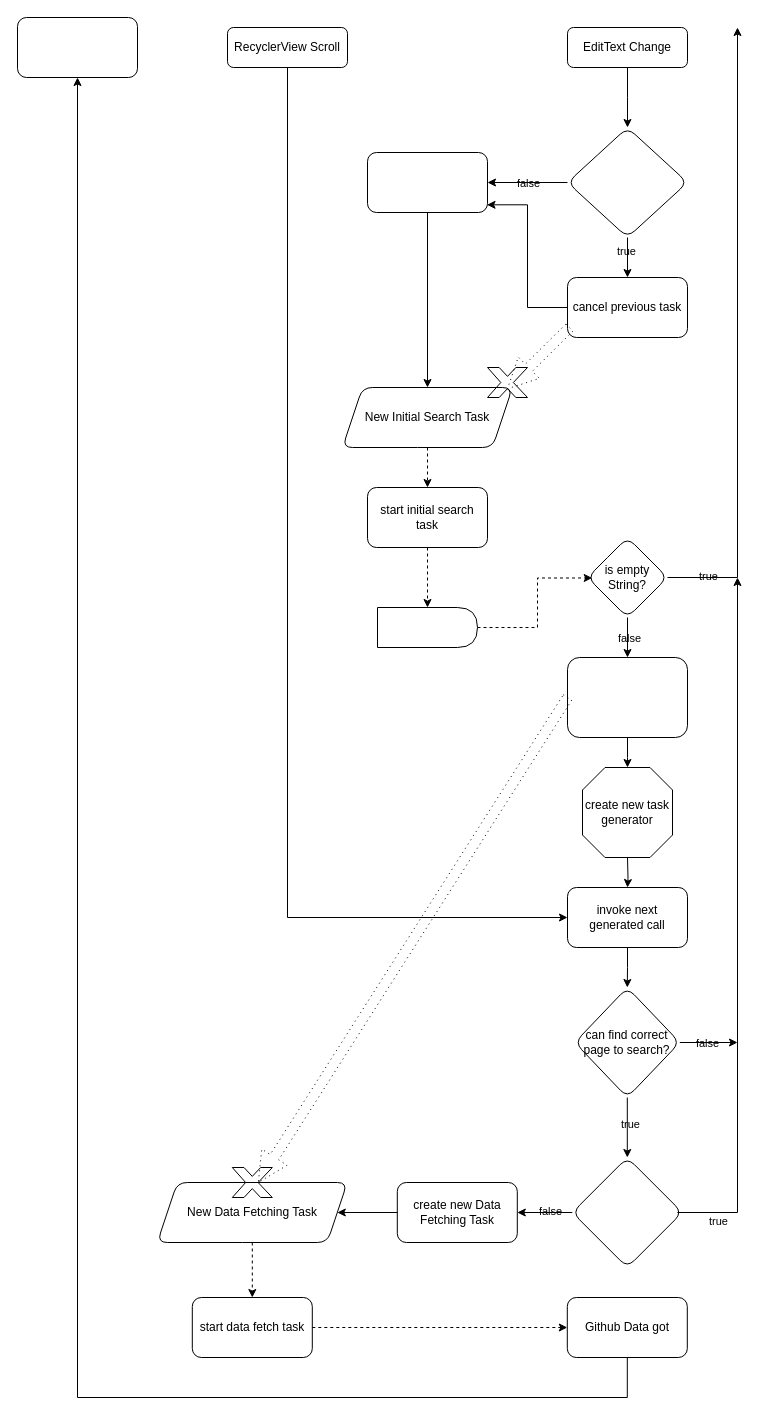
The diagram is 763 pixels wide and 1423 high, and some of its shapes have lost their labels. Each missing label, with the centre of its shape:
"cancel previous generator's tasks" goes at point (627, 697).
"change within 500milli? (debounced)" goes at point (627, 182).
"create new Initial Search Task" goes at point (427, 182).
"delay 500 milli" goes at point (427, 627).
"is previous data task ongoing?" goes at point (626, 1212).
"Update UI" goes at point (77, 47).
